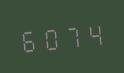four: (84, 18, 105, 49)
seven: (62, 20, 83, 51)
six: (18, 23, 39, 54)
zero: (40, 21, 61, 52)
